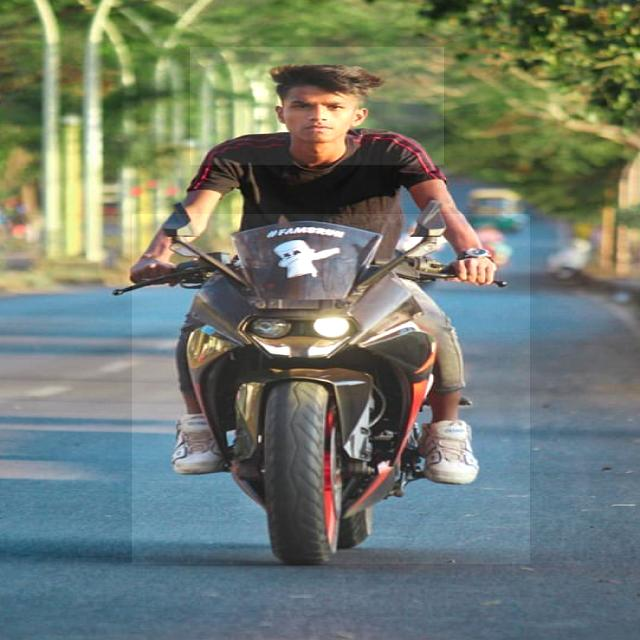Bike: (132, 214, 530, 564)
No_Helmet: (190, 47, 444, 165)
